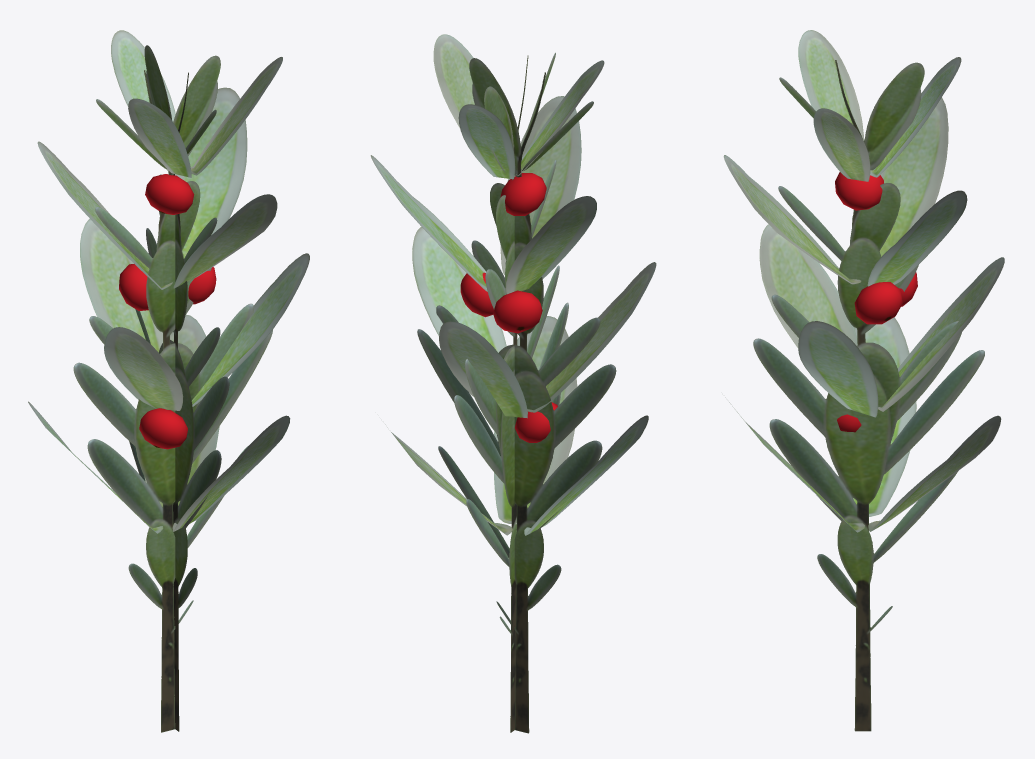
Rendered from KinnikinnickSprigs.glb.
The picture shows the model from 3 angles, left to right: view 1: azimuth 30°, elevation 25°; view 2: azimuth 150°, elevation 25°; view 3: azimuth 270°, elevation 25°; orthographic projection.
Parts seen in each view (by area): view 1: Kinnikinnick_Sprig; view 2: Kinnikinnick_Sprig; view 3: Kinnikinnick_Sprig.
Boxes of the visible parts, left/top/right/bottom form: Kinnikinnick_Sprig: left=28, top=30, right=309, bottom=732; Kinnikinnick_Sprig: left=370, top=34, right=656, bottom=733; Kinnikinnick_Sprig: left=723, top=30, right=1004, bottom=731.
Bounding box in the file's own units: 0.0782 × 0.1813 × 0.0763.
Materials: 1 (1 with a texture image).
